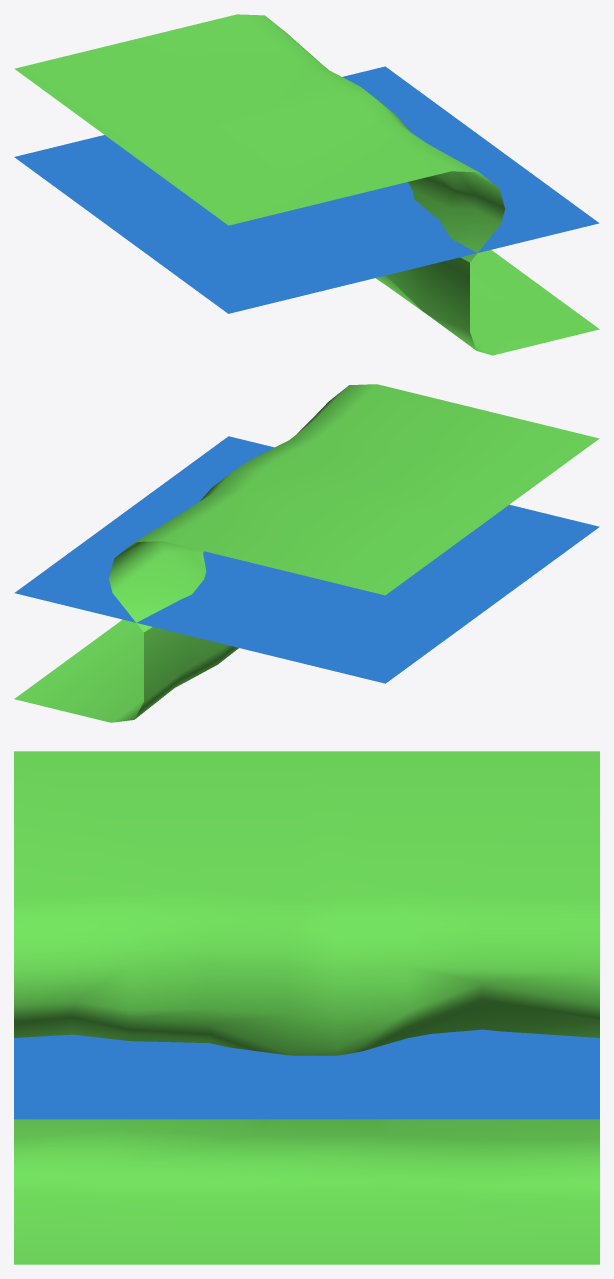
The model's file is River_Edge_B_Mesh.fbx.
The picture shows the model from 3 angles, top to bottom: view 1: azimuth 30°, elevation 25°; view 2: azimuth 150°, elevation 25°; view 3: azimuth 270°, elevation 25°; orthographic projection. The views are drawn at different scales.
Parts seen in each view (by area): view 1: River_Edge_B; view 2: River_Edge_B; view 3: River_Edge_B.
Boxes of the visible parts, x1=… form: River_Edge_B: x1=14, y1=14, x2=599, y2=355; River_Edge_B: x1=14, y1=384, x2=599, y2=722; River_Edge_B: x1=14, y1=751, x2=599, y2=1264.
Bounding box in the file's own units: 200 × 200 × 100.
